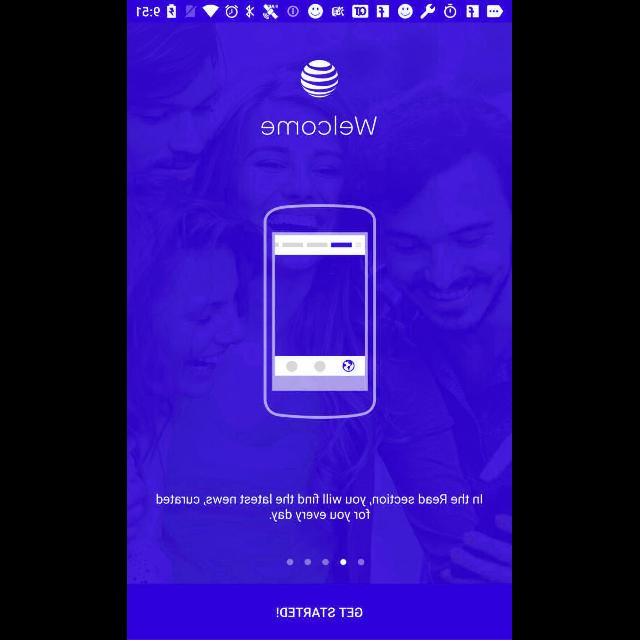backgroundimage: (128, 23, 512, 583)
image: (264, 204, 378, 418), (301, 60, 339, 98)
pageindicator: (287, 558, 365, 566)
text: (157, 493, 483, 522), (262, 116, 378, 136)
textbutton: (128, 584, 512, 640)
uppertaskbar: (128, 1, 512, 23)
